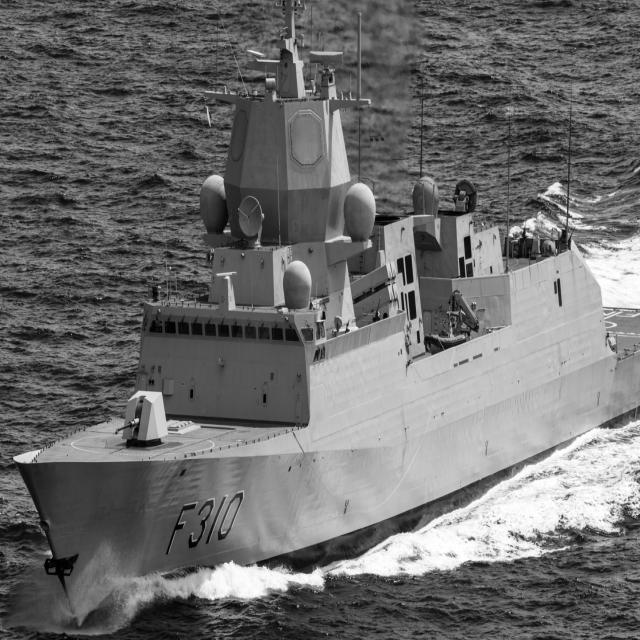Fragata: (10, 1, 640, 640)
